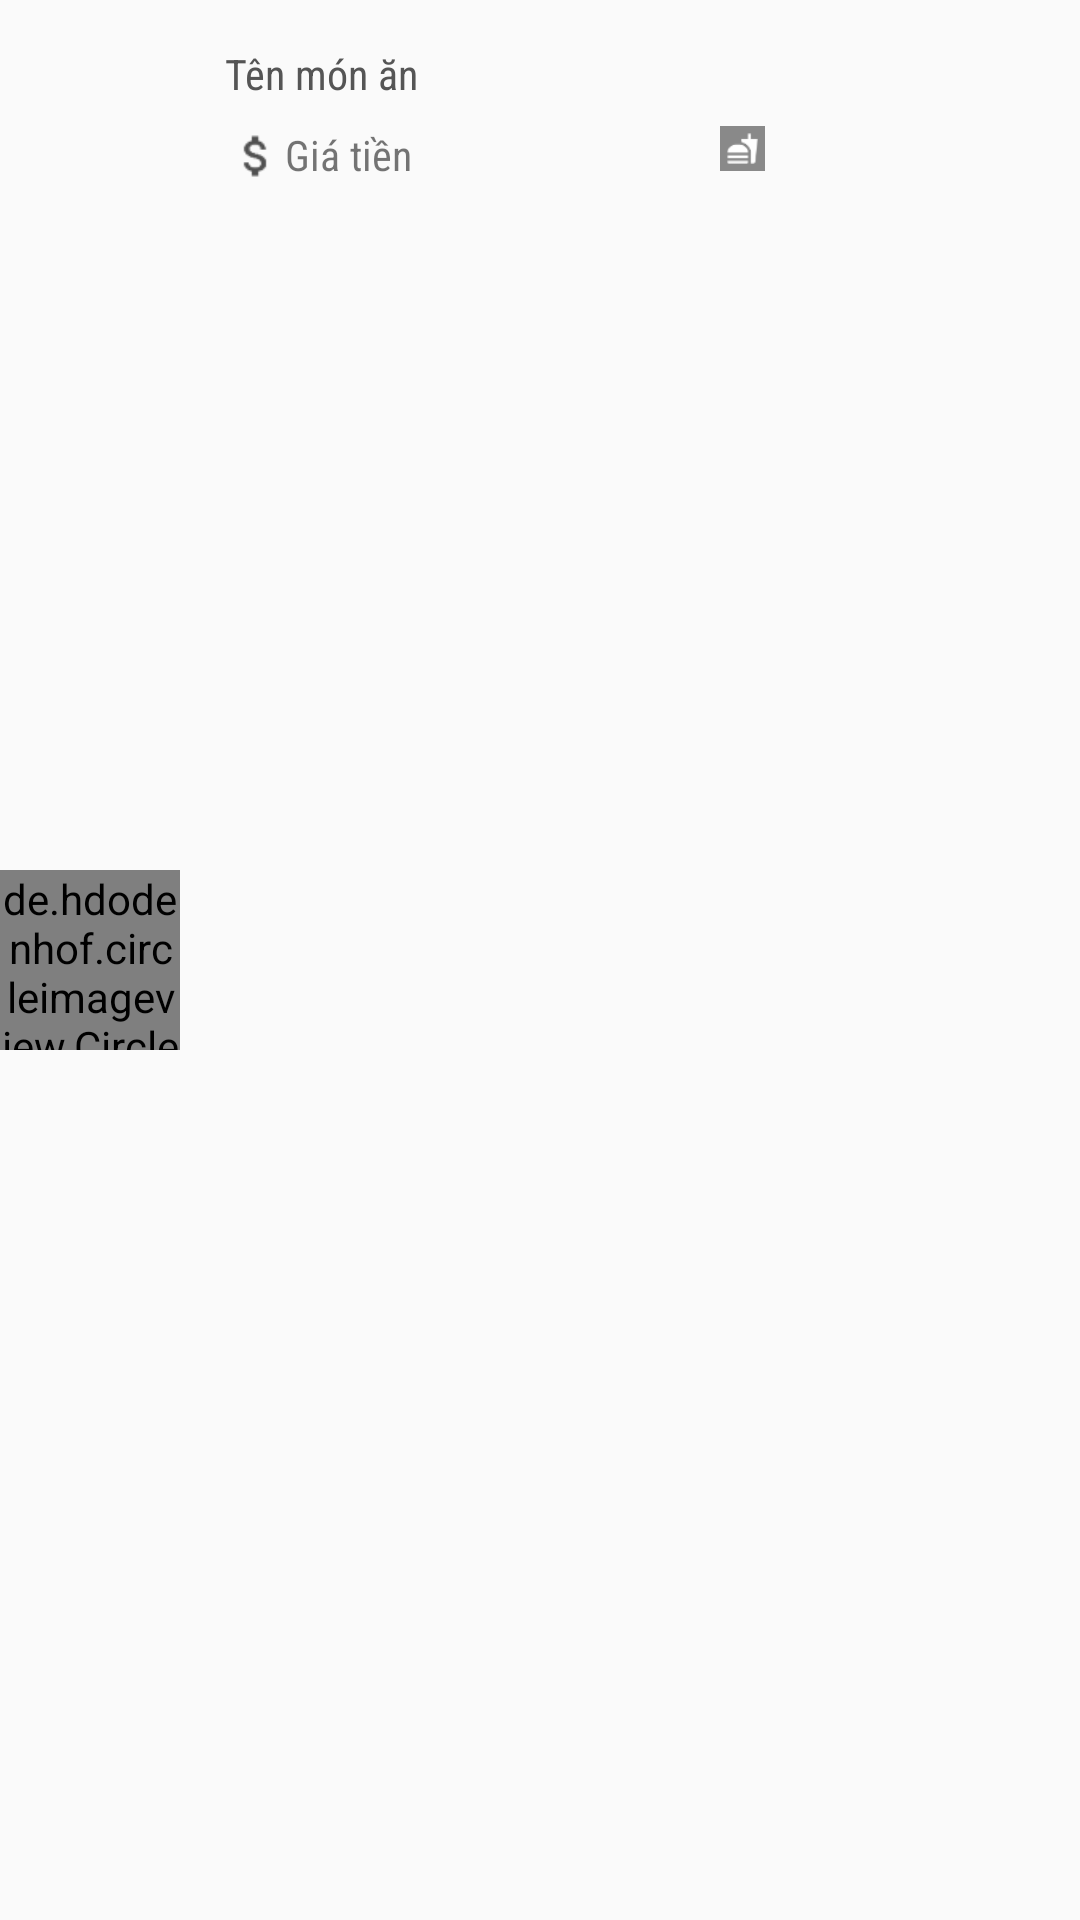

Where icons sit on this 1080 x 1920 app screen, as bbox=(x1, y1, x2, y2):
money: bbox=(243, 135, 267, 177)
